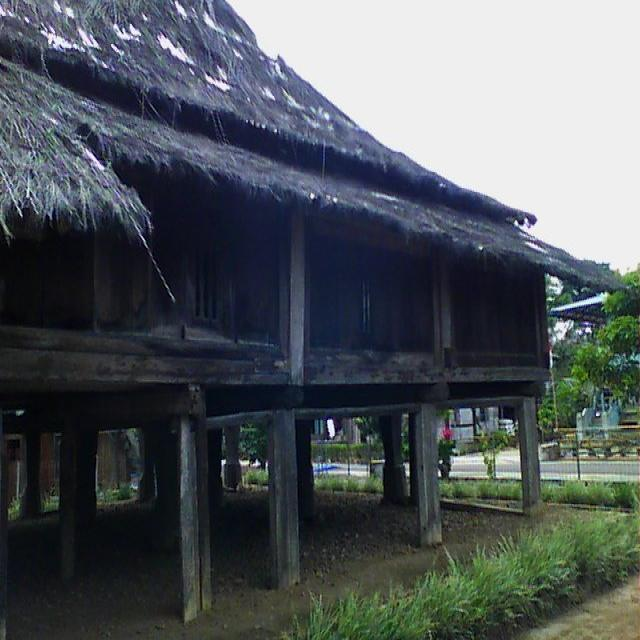Atap: (0, 1, 627, 293)
Tembok Bangunan: (1, 151, 549, 384)
